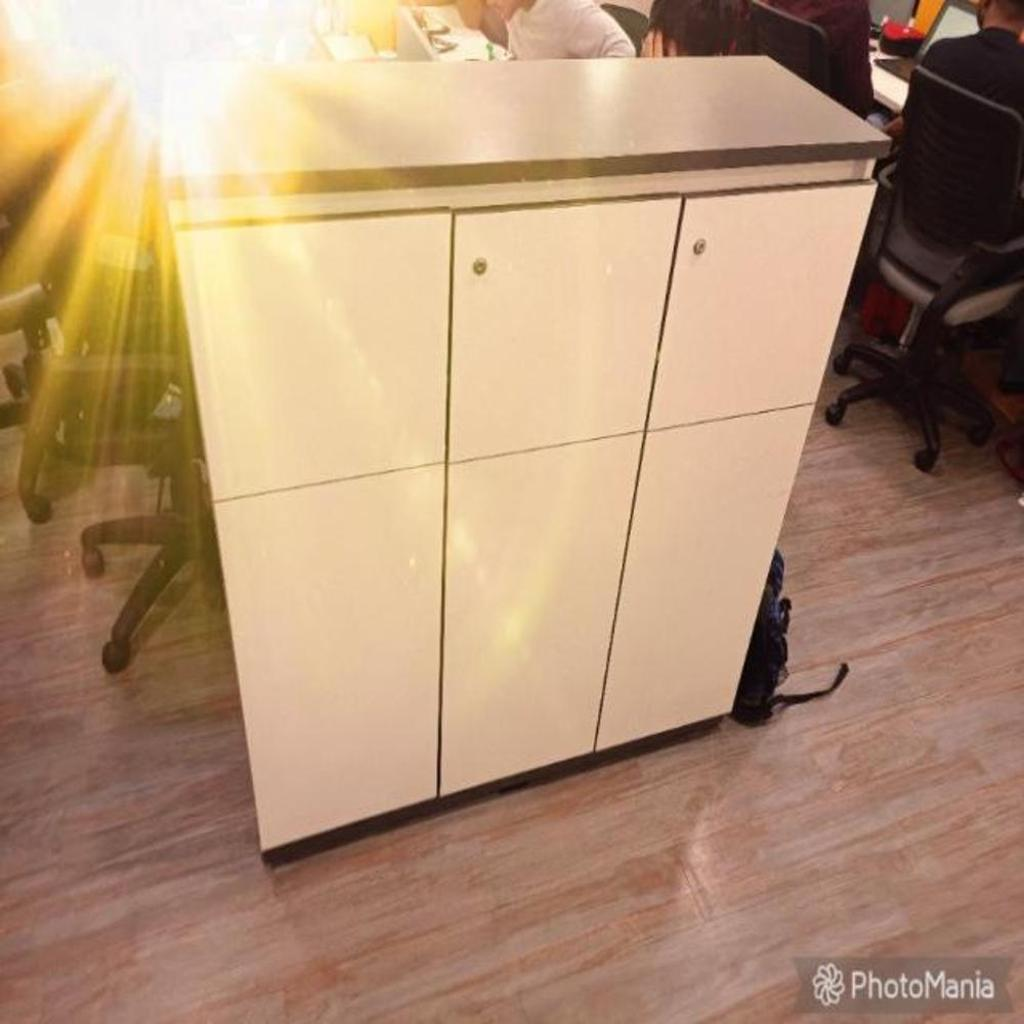cabinet: (149, 42, 838, 902)
